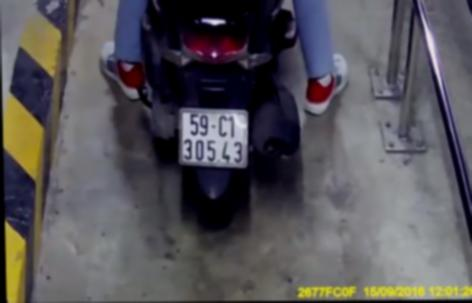License_Plate: (174, 103, 255, 175)
